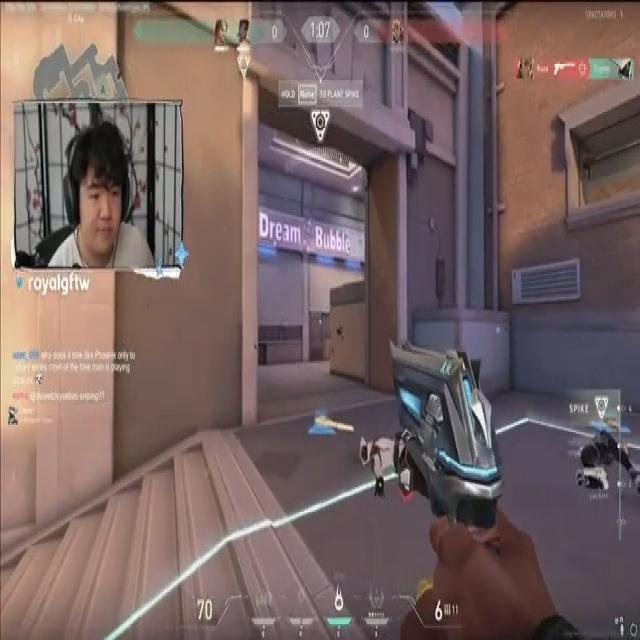gun: (314, 405, 356, 439)
